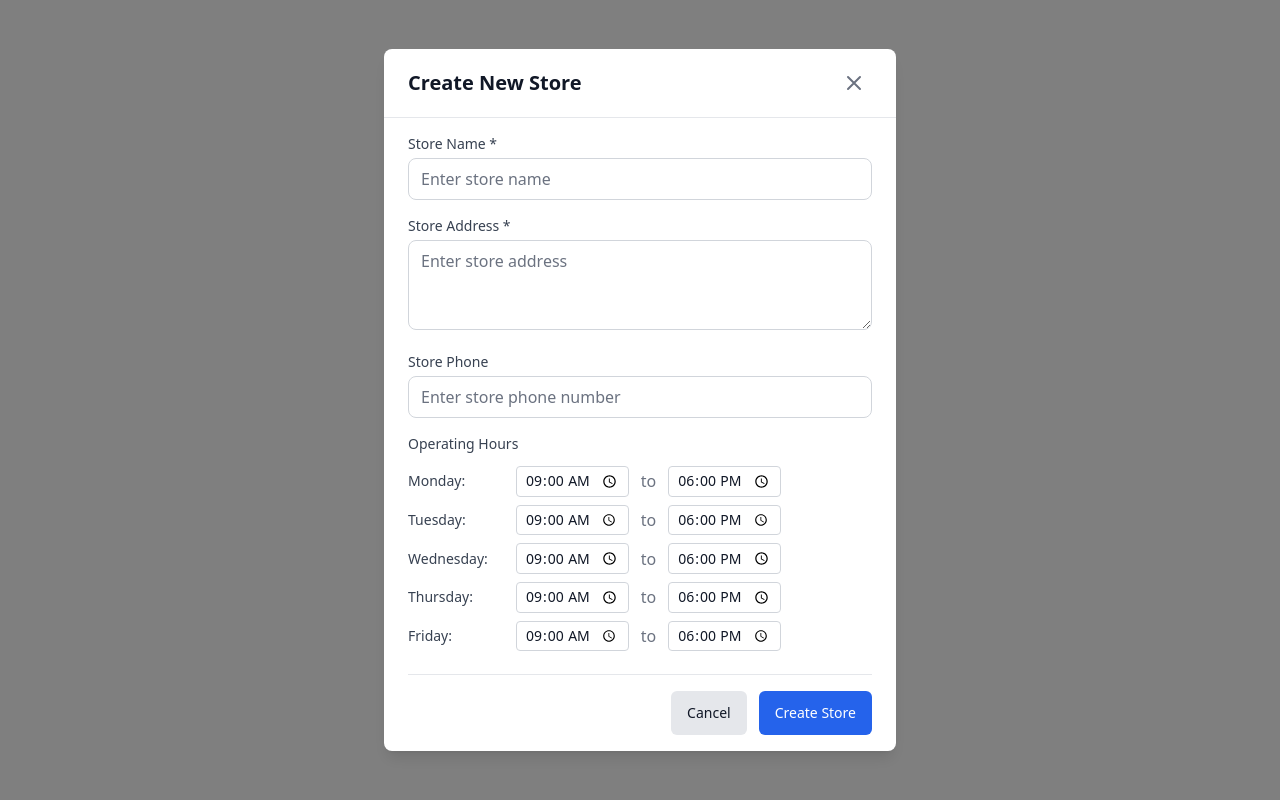
Test: Store Management Frontend (Tasks 51-53) › Task 52: Store Creation Form › should validate required fields (name and address)
What coordinates should you click on to do the following:
click the button "Create Store"
I would click on:
 (815, 713)
Its box is [759,691,872,735].
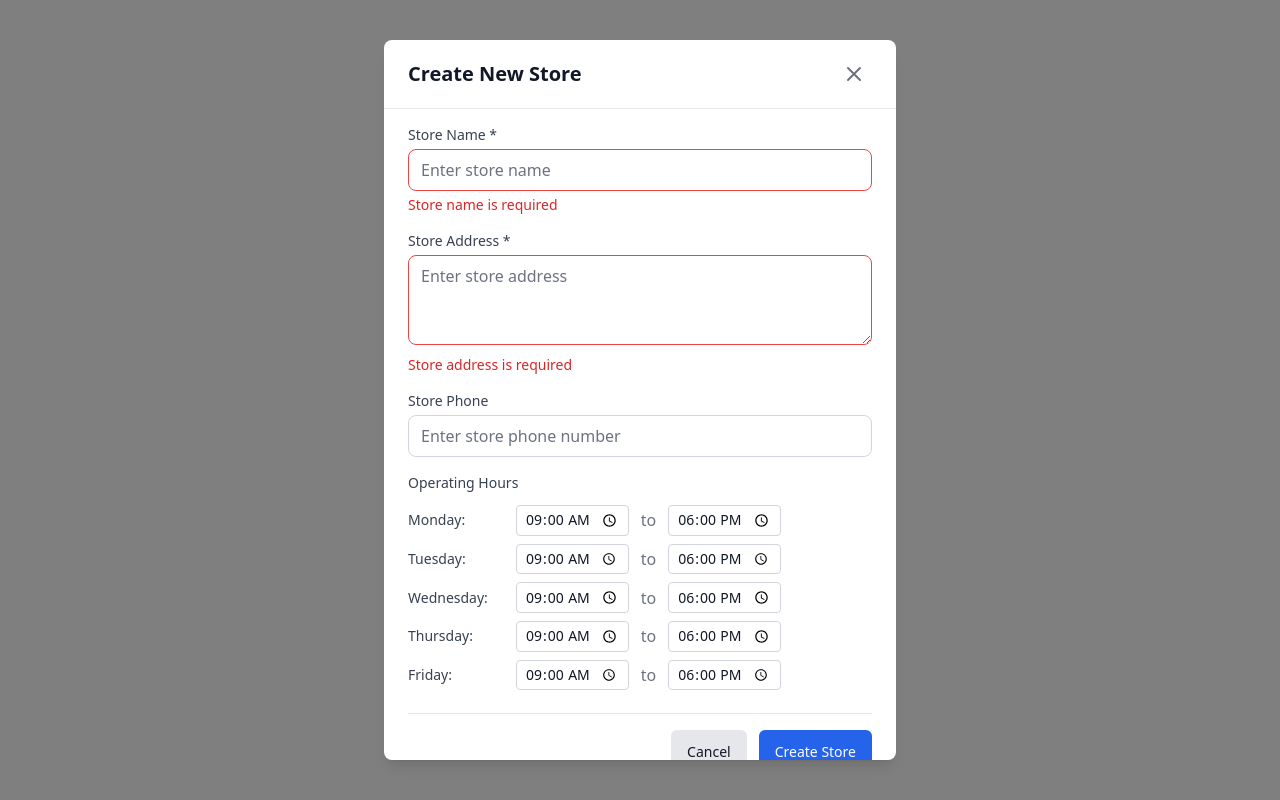
Result: the text "Store name is required" is shown at [408,195,558,214]
Result: the text "Store address is required" is shown at [408,355,572,374]
